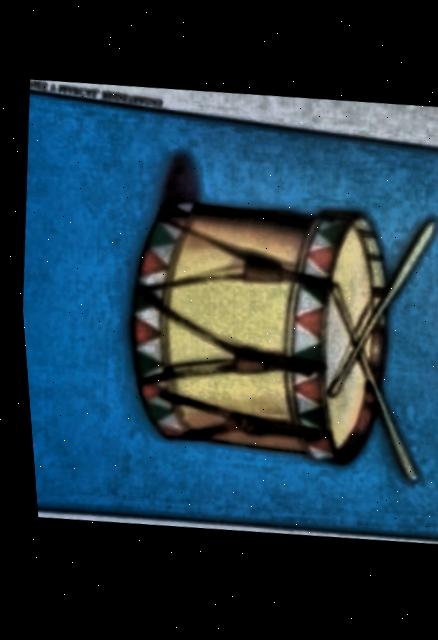El Tambor: (18, 90, 438, 543)
